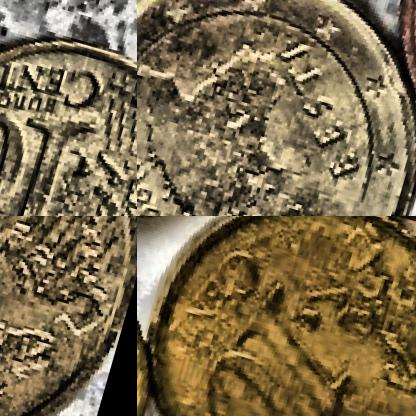coin: (137, 0, 415, 215), (137, 216, 415, 415), (0, 4, 136, 215), (0, 216, 136, 415)
